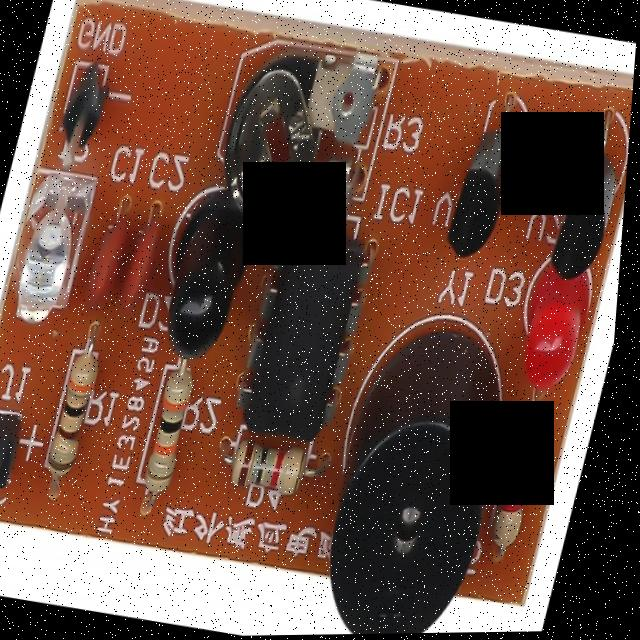IC: (227, 222, 384, 457)
LED: (155, 195, 262, 370), (0, 172, 103, 333), (511, 269, 607, 401)
buzzer: (308, 310, 536, 636)
capacitor 1V5: (115, 184, 175, 332), (82, 184, 145, 322)
connector -5v-: (49, 15, 127, 174), (0, 403, 29, 526)
potentiometer POT1: (210, 41, 399, 252)
resistor IR1: (141, 362, 213, 519), (490, 410, 556, 576), (40, 347, 110, 500), (217, 434, 321, 509)
